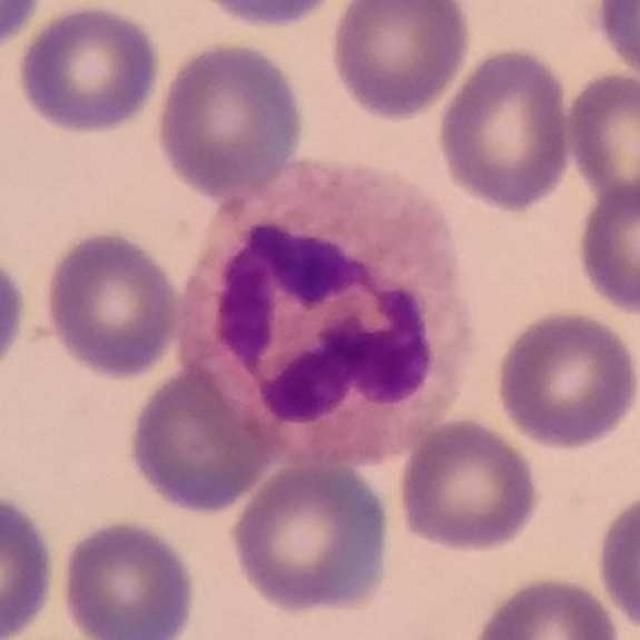Neutrophil: (180, 159, 479, 461)
RBC: (225, 456, 396, 618), (123, 355, 287, 518), (150, 38, 311, 199), (433, 42, 577, 215), (39, 225, 185, 383), (490, 305, 639, 453), (393, 414, 544, 555), (12, 1, 166, 137), (325, 0, 475, 124), (56, 514, 200, 640), (561, 66, 640, 212), (468, 571, 624, 640), (572, 172, 640, 320), (0, 488, 60, 640), (592, 485, 640, 636), (184, 0, 350, 31), (0, 247, 32, 384), (591, 0, 640, 88), (0, 0, 48, 56)
